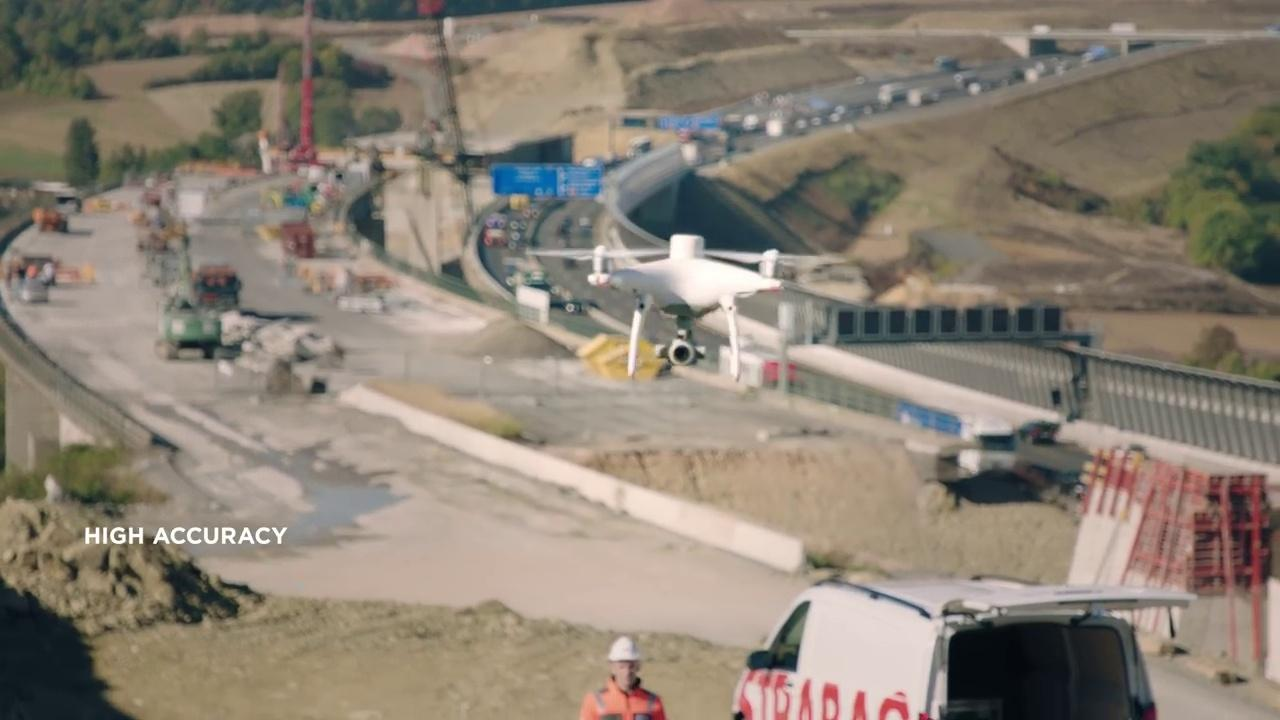drone: (532, 229, 843, 383)
